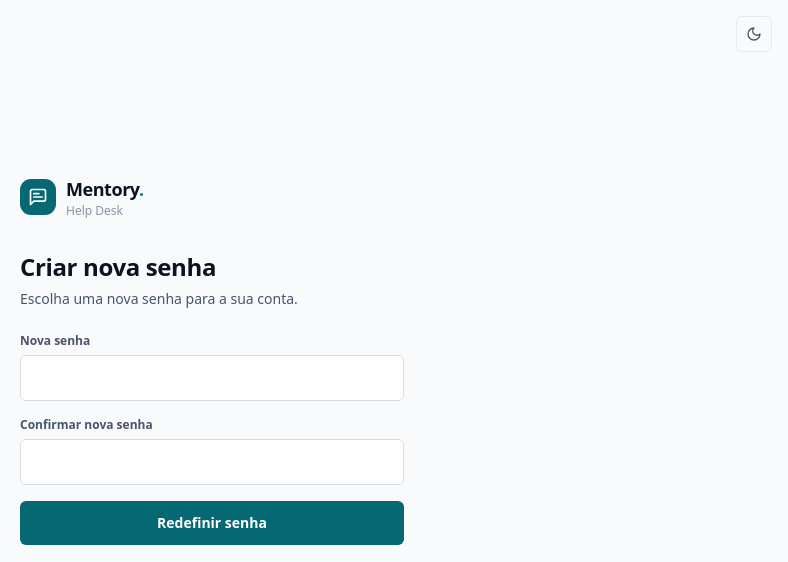
Test: RedefinirSenhaPage (F7.1) › com token, redefine a senha
Type "senha-nova-456" into the password field labelled "Nova senha". click: {"x": 212, "y": 378}
box: [20, 355, 404, 401]
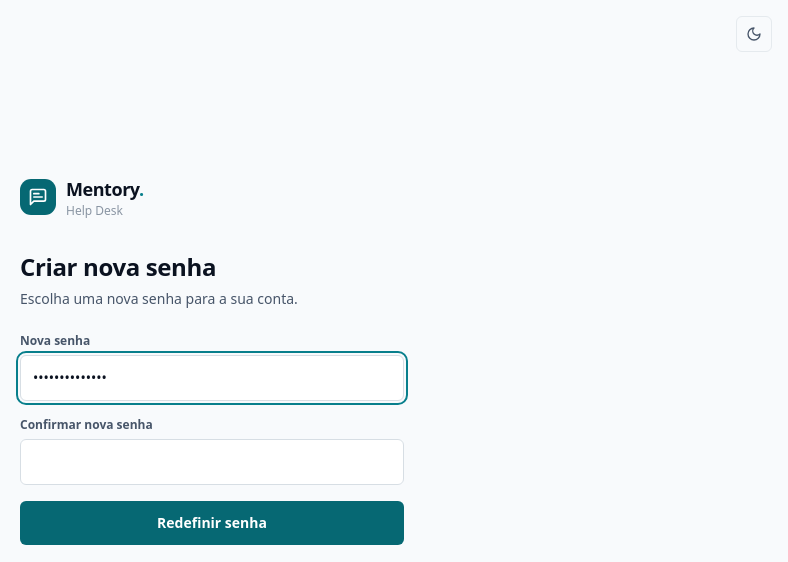
Type "senha-nova-456" into the password field labelled "Confirmar nova senha". click: {"x": 212, "y": 462}
box: [20, 439, 404, 485]
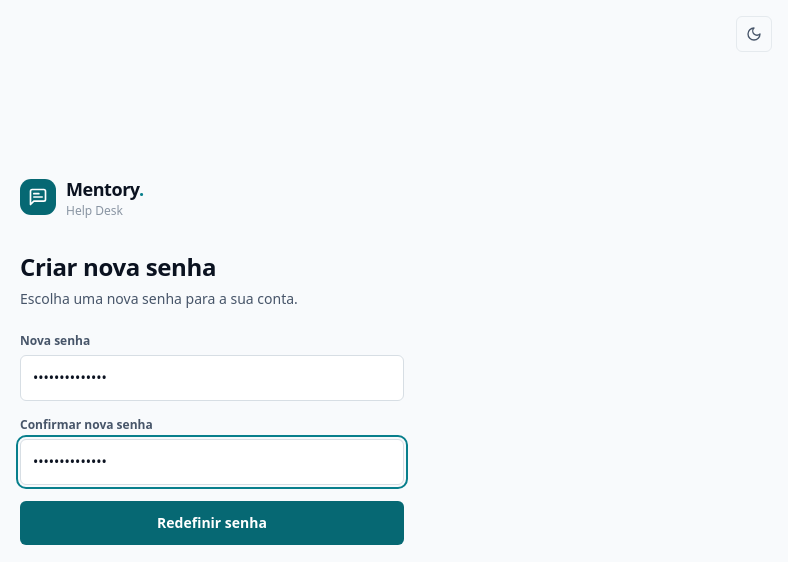
Click the button "Redefinir senha". click: {"x": 212, "y": 523}
box: [20, 501, 404, 545]
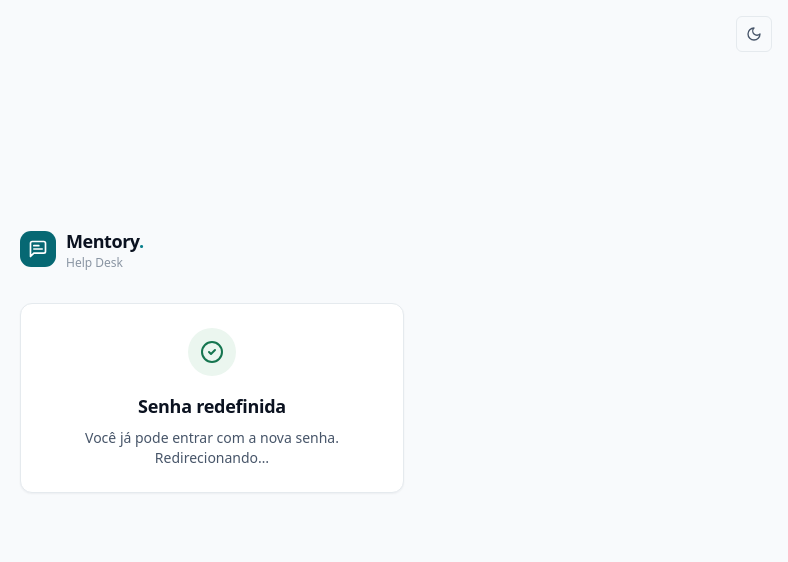
expect the heading "Senha redefinida" is shown: met, box [138, 394, 286, 418]
